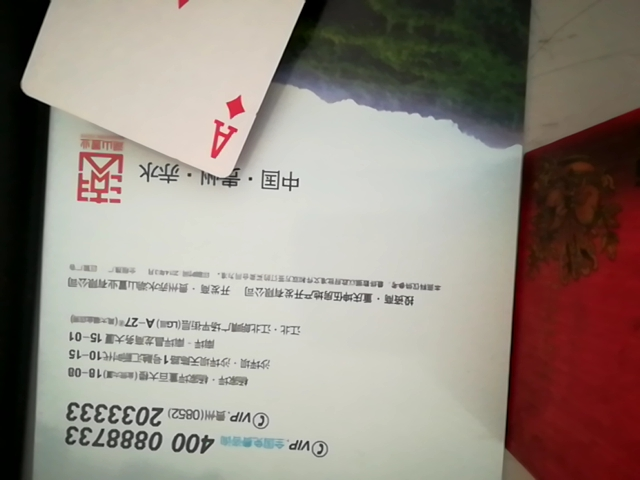fk a: (15, 0, 364, 190)
